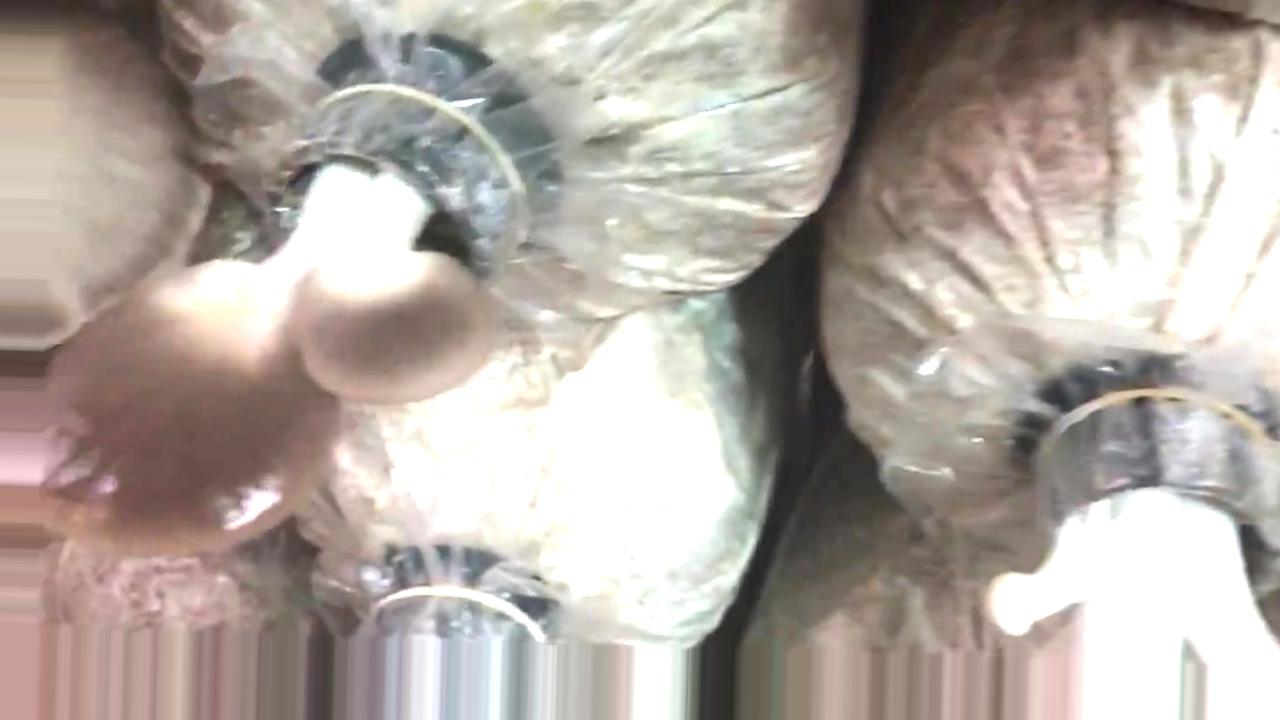nam: (43, 64, 523, 562)
